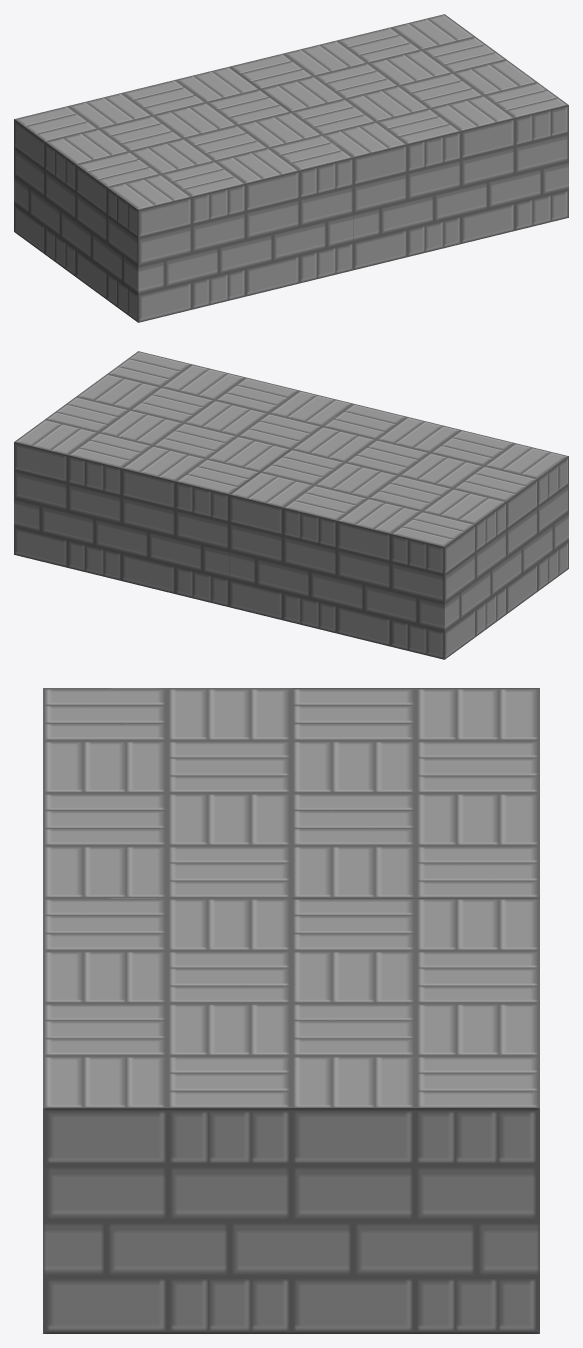
File: BrickLedge.glb
The picture shows the model from 3 angles, top to bottom: view 1: azimuth 30°, elevation 25°; view 2: azimuth 150°, elevation 25°; view 3: azimuth 270°, elevation 25°; orthographic projection. The views are drawn at different scales.
Visible parts, largest first — view 1: Cube; view 2: Cube; view 3: Cube.
Part boxes in pixels (<box>): Cube: <box>14,14,568,322</box>; Cube: <box>14,351,568,659</box>; Cube: <box>43,688,539,1333</box>.
Size of the model in its own units: 2 by 0.5 by 1.
Materials: 1 (1 with a texture image).
